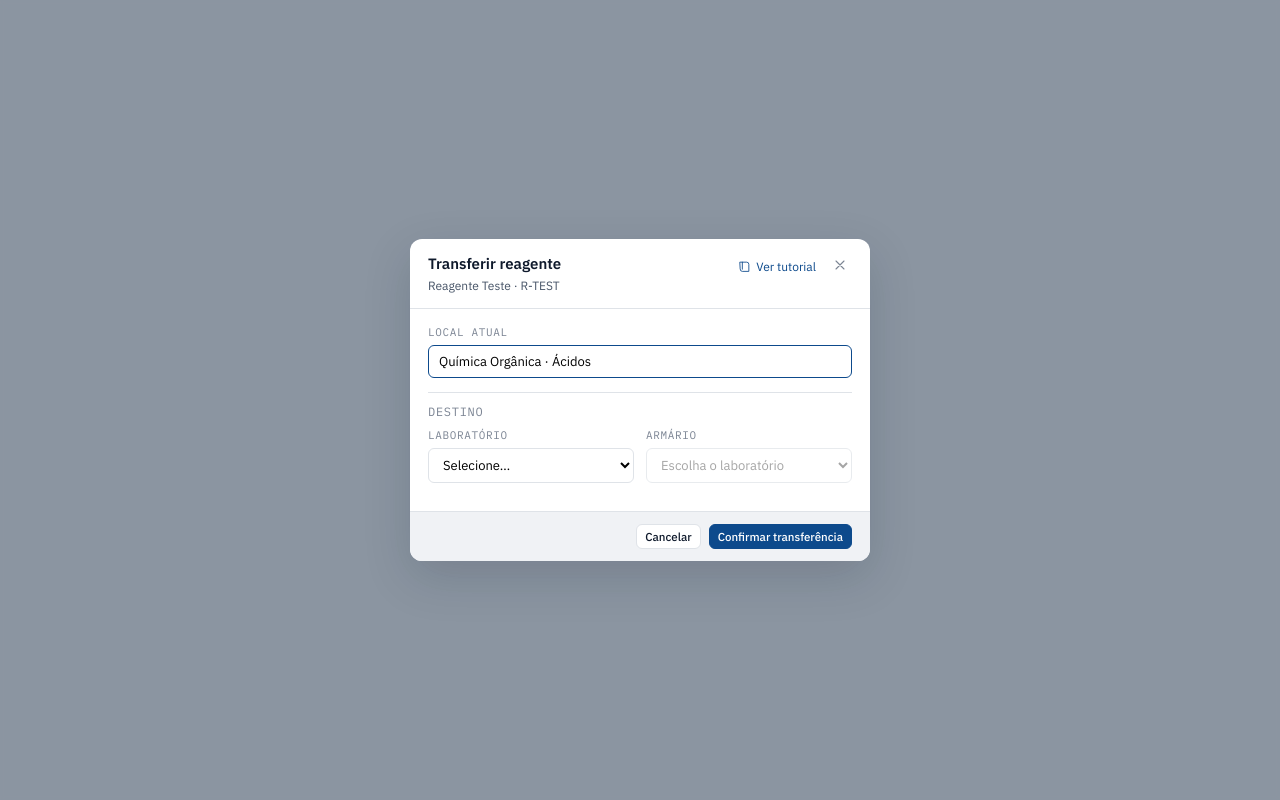
Scenario: FormTransferirReagente › mostra erro inline, sem alert, quando nenhum destino é selecionado
Click the button "Confirmar transferência". click: (780, 537)
box: [709, 524, 852, 549]
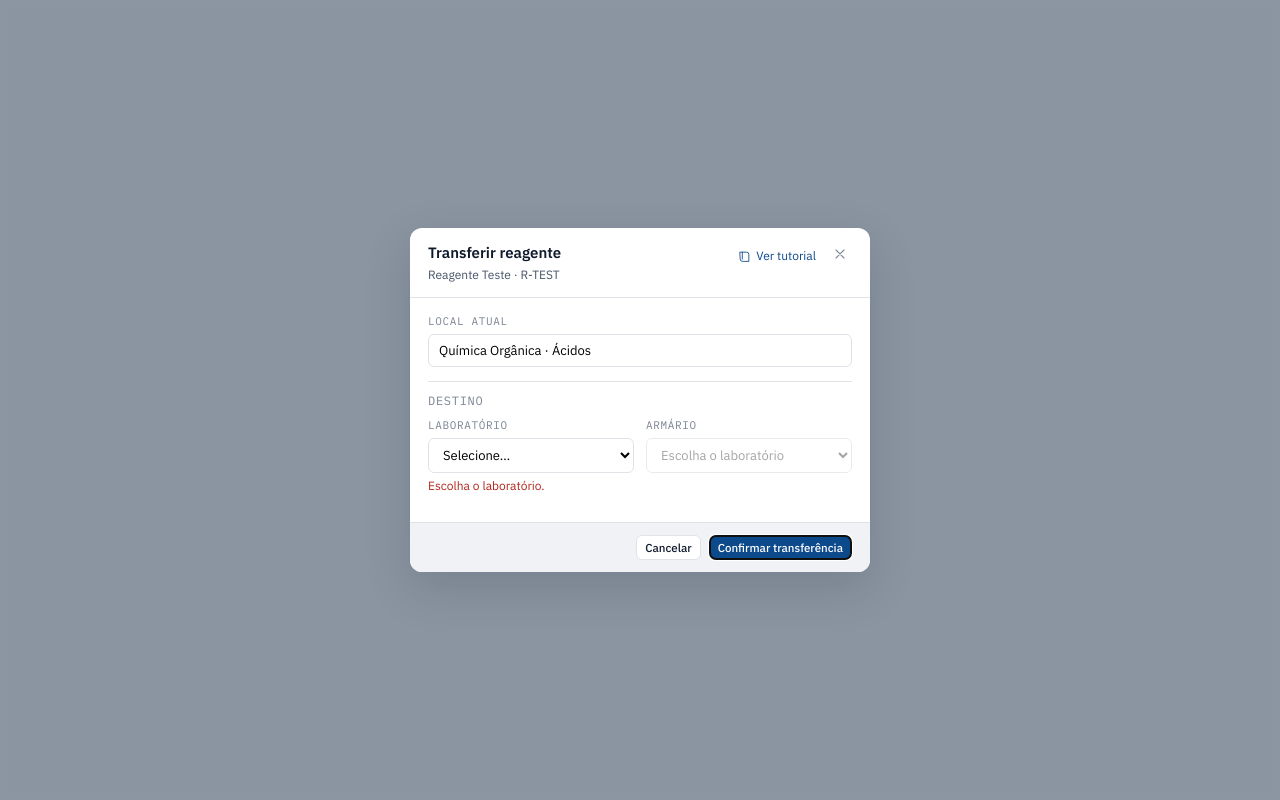
Result: the text "Escolha o laboratório." is shown at [428, 478, 544, 492]
